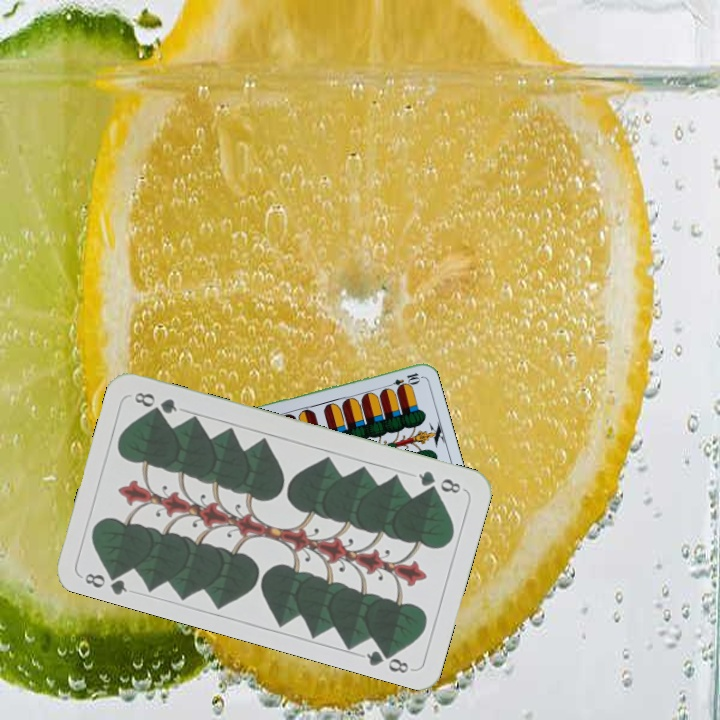E10: (382, 369, 422, 391)
G8: (80, 564, 130, 597), (414, 466, 467, 496)
